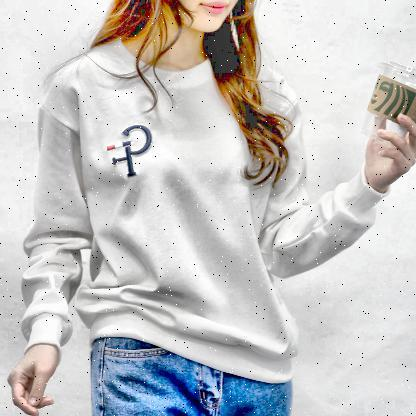sweater: (16, 31, 395, 388)
trousers: (87, 330, 297, 416)
